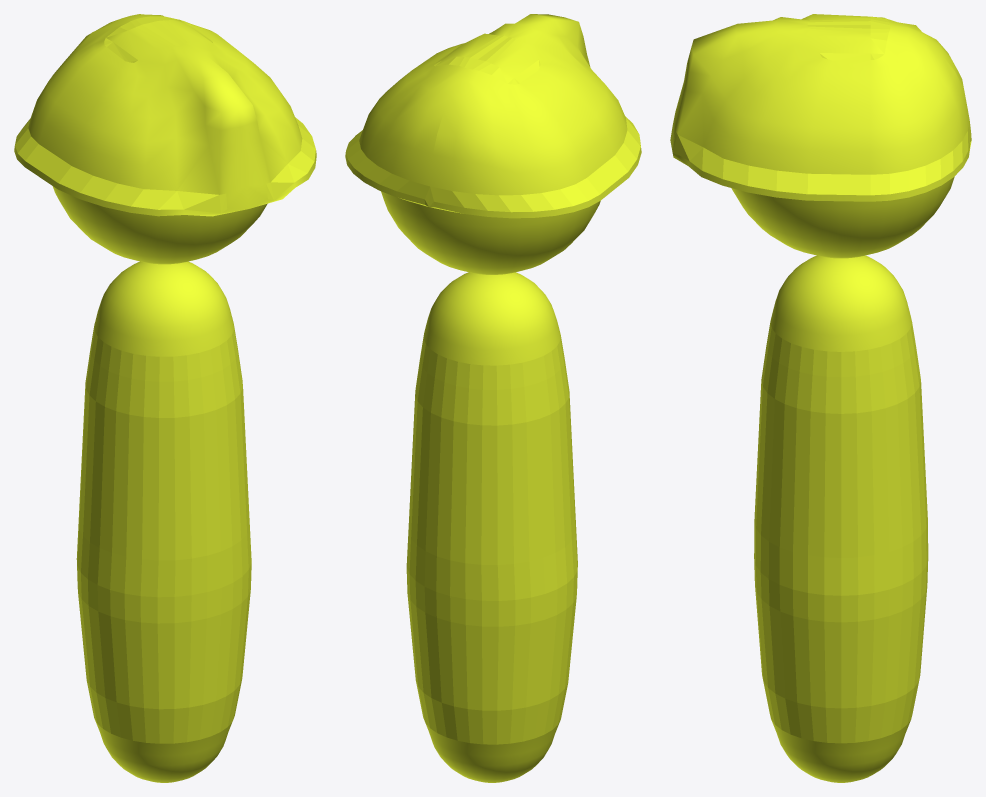
The model's file is あずま.fbx.
3 renders of one model, left to right at view 1: azimuth 30°, elevation 25°; view 2: azimuth 150°, elevation 25°; view 3: azimuth 270°, elevation 25°, orthographic. The views are drawn at different scales.
Parts seen in each view (by area): view 1: オブジェクト003; view 2: オブジェクト003; view 3: オブジェクト003.
Boxes of the visible parts, x1,y1,x2,y2 form: オブジェクト003: [14, 14, 316, 782]; オブジェクト003: [345, 14, 641, 782]; オブジェクト003: [670, 14, 971, 782].
Bounding box in the file's own units: 14.25 × 40.49 × 14.69.
